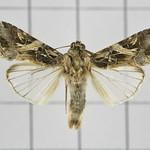Spodoptera litura: (1, 20, 148, 130)
